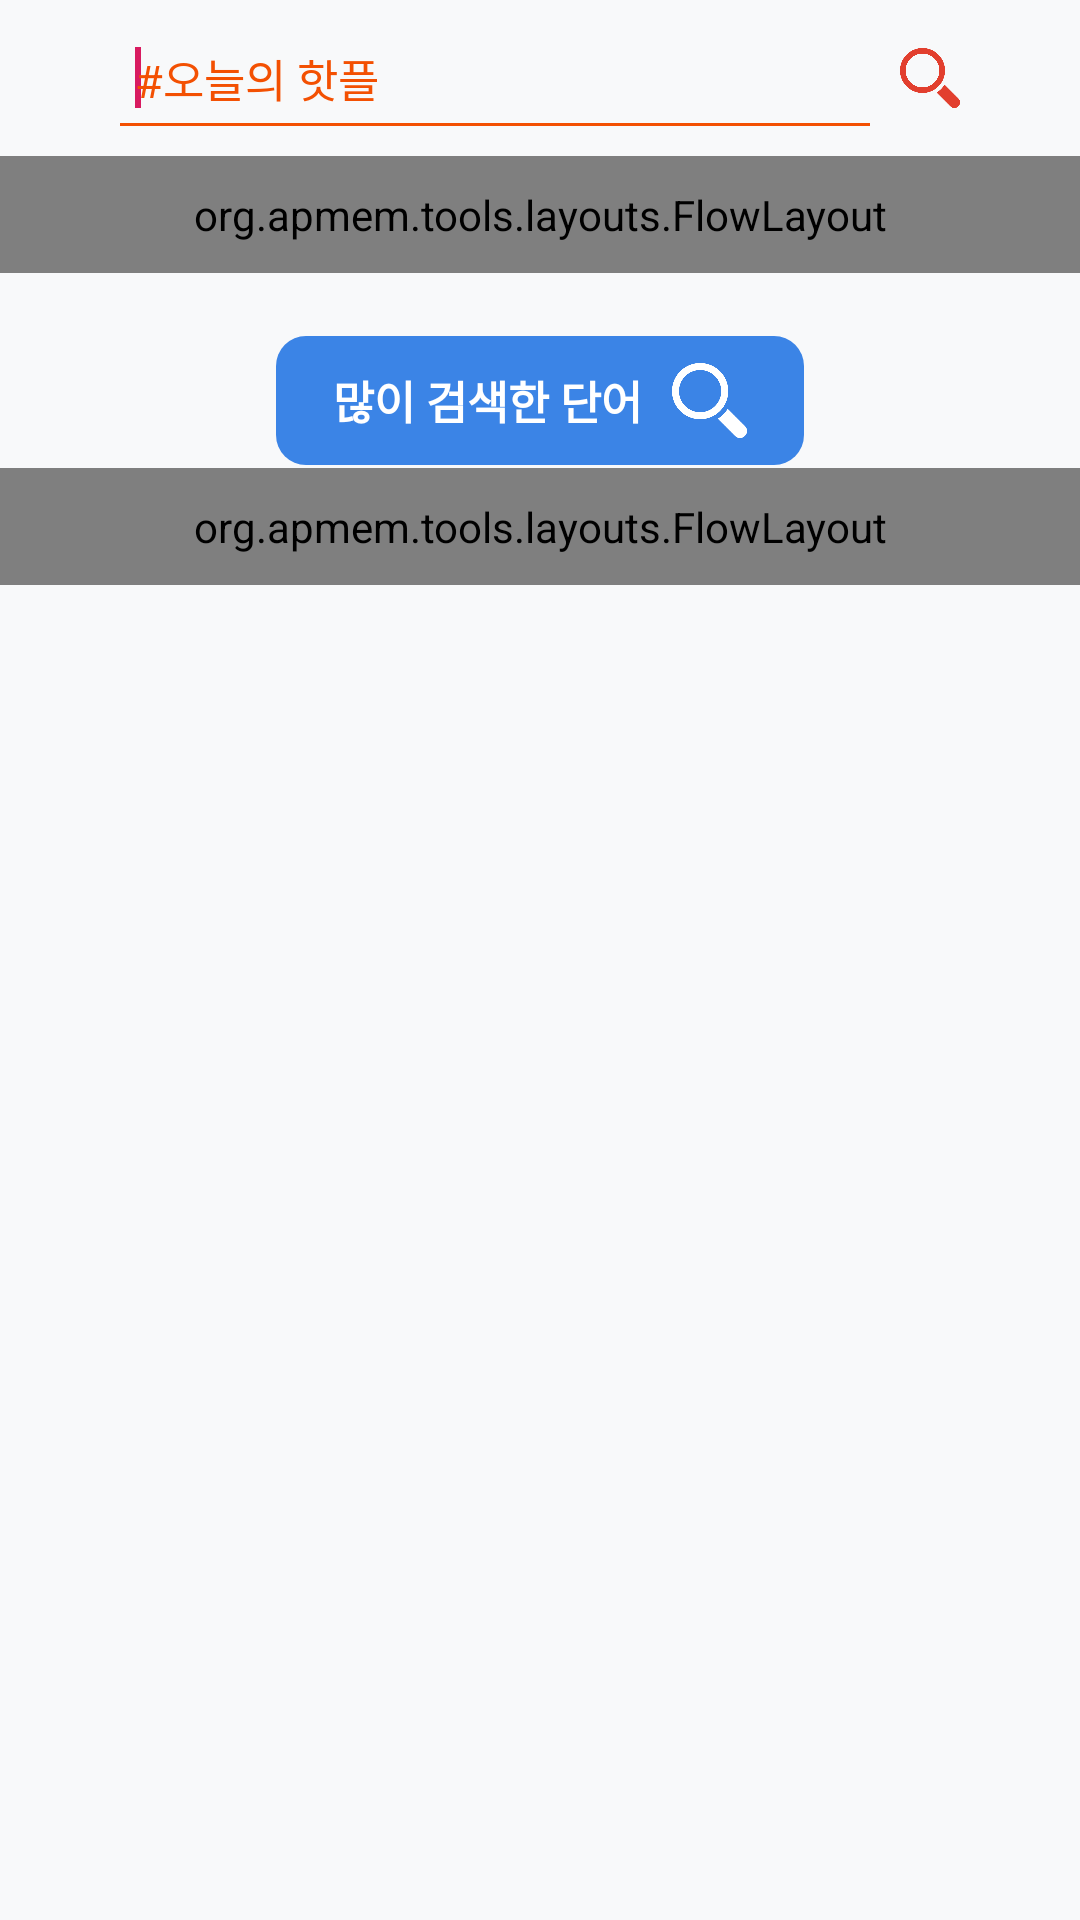

Icon click points for this 1080px x 1920px phone screenshot, format (x,y):
search: (930,78), (709,400)
